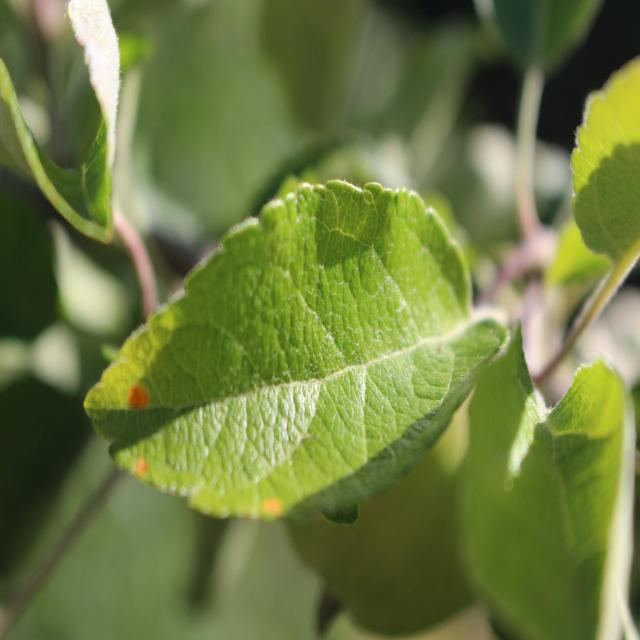Rust: (123, 363, 162, 420), (127, 452, 163, 486)
